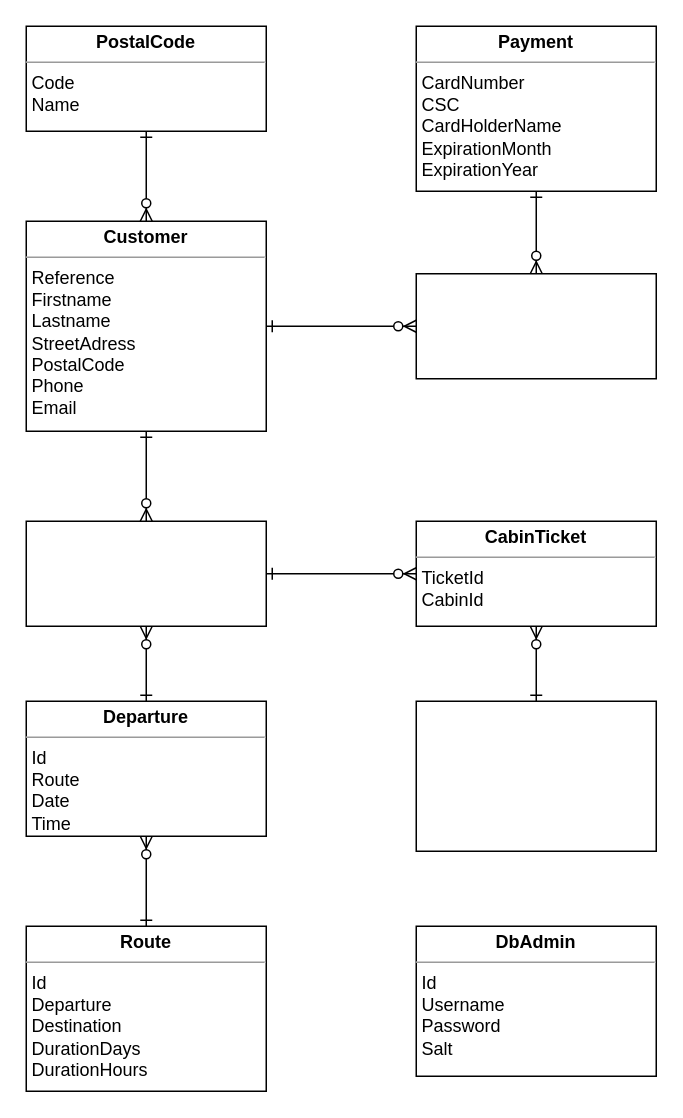
Image size: 683x1118. Some labels were removed from this diagram. The centre of each missing label's shape, as x and y in pixels:
Cabin Id Type Price Beds: pixel 535 775
CustomerPayment TicketId CabinId: pixel 535 325
Ticket Reference Departure: pixel 145 573
